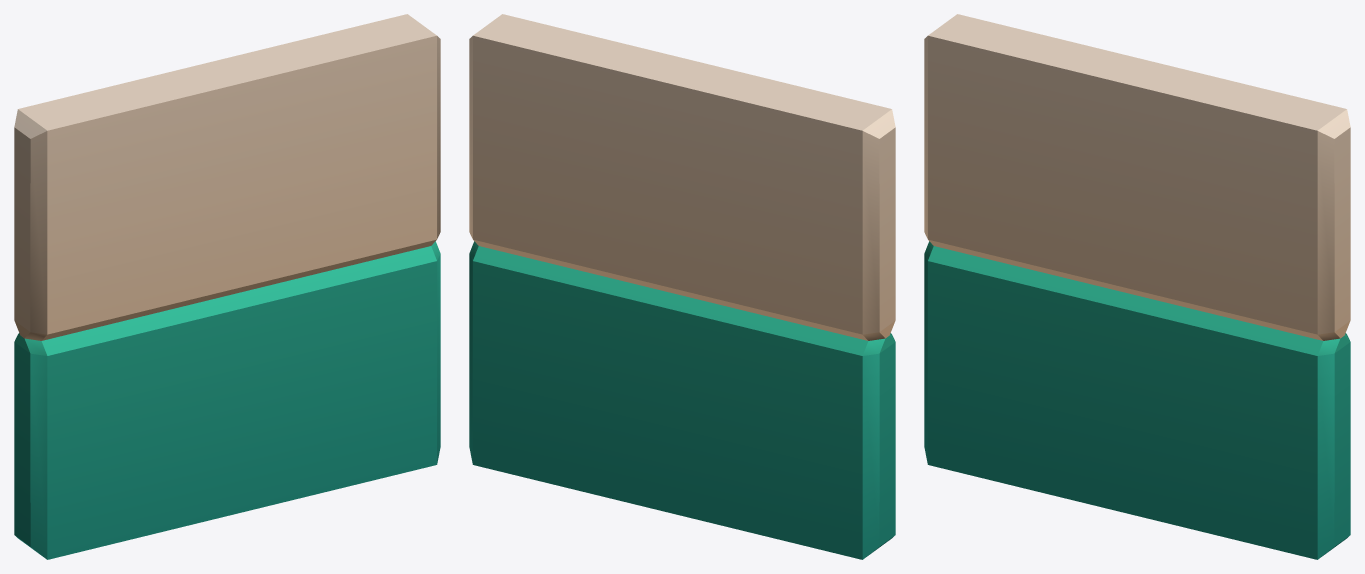
Rendered from wall.obj.
3 renders of one model, left to right at view 1: azimuth 30°, elevation 25°; view 2: azimuth 150°, elevation 25°; view 3: azimuth 330°, elevation 25°, orthographic.
Parts seen in each view (by area): view 1: wall_Cube.148; view 2: wall_Cube.148; view 3: wall_Cube.148.
Part boxes in pixels (left/top/right/bottom): wall_Cube.148: left=14, top=14, right=440, bottom=559; wall_Cube.148: left=469, top=14, right=895, bottom=559; wall_Cube.148: left=924, top=14, right=1350, bottom=559.
Bounding box in the file's own units: 4 × 4 × 0.5.
Materials: 1 (1 with a texture image).
